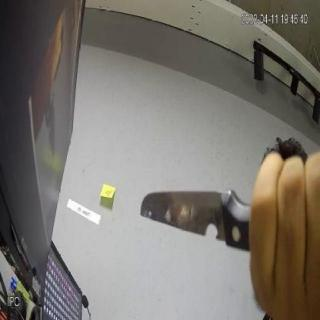knife: (141, 178, 234, 260)
